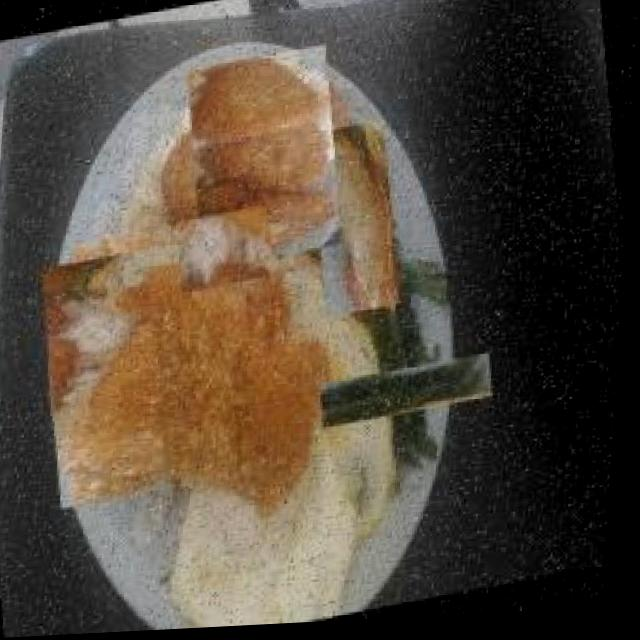fried_chicken: (45, 205, 370, 525)
fried_dumplings: (304, 123, 413, 322)
fried_eggs: (135, 227, 434, 633)
rice: (176, 208, 283, 297)
triangle_hash_brown: (166, 60, 368, 261)
water_spinach: (348, 333, 477, 458)
